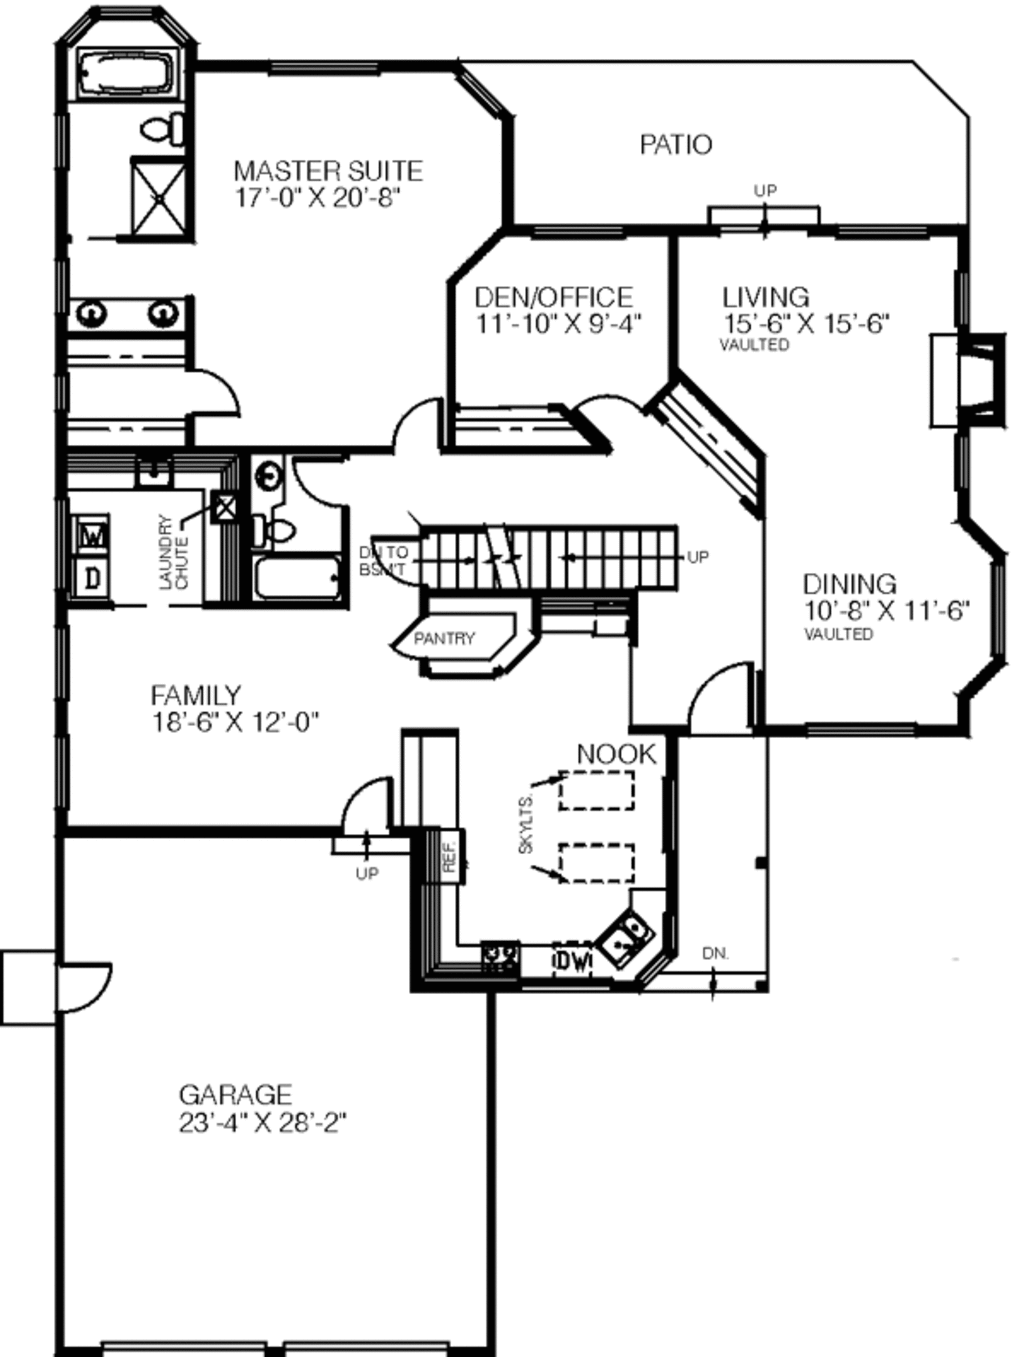door: (311, 767, 404, 861), (688, 653, 773, 746), (567, 377, 653, 453), (381, 389, 446, 465), (35, 958, 116, 1013), (381, 599, 443, 660), (295, 453, 351, 515), (181, 365, 248, 413)
large_sink: (122, 103, 191, 160), (246, 513, 315, 555)
sink: (118, 448, 187, 495)
small_sink: (65, 278, 187, 334), (242, 451, 285, 508)
stairs: (419, 512, 691, 596)
tub: (54, 35, 199, 110), (246, 548, 344, 602)
twin_sink: (578, 903, 674, 975)
window: (975, 560, 1024, 669), (253, 53, 404, 86), (795, 709, 935, 743), (520, 209, 632, 247), (42, 730, 85, 809), (825, 219, 945, 246), (47, 620, 81, 700), (49, 371, 82, 417)
